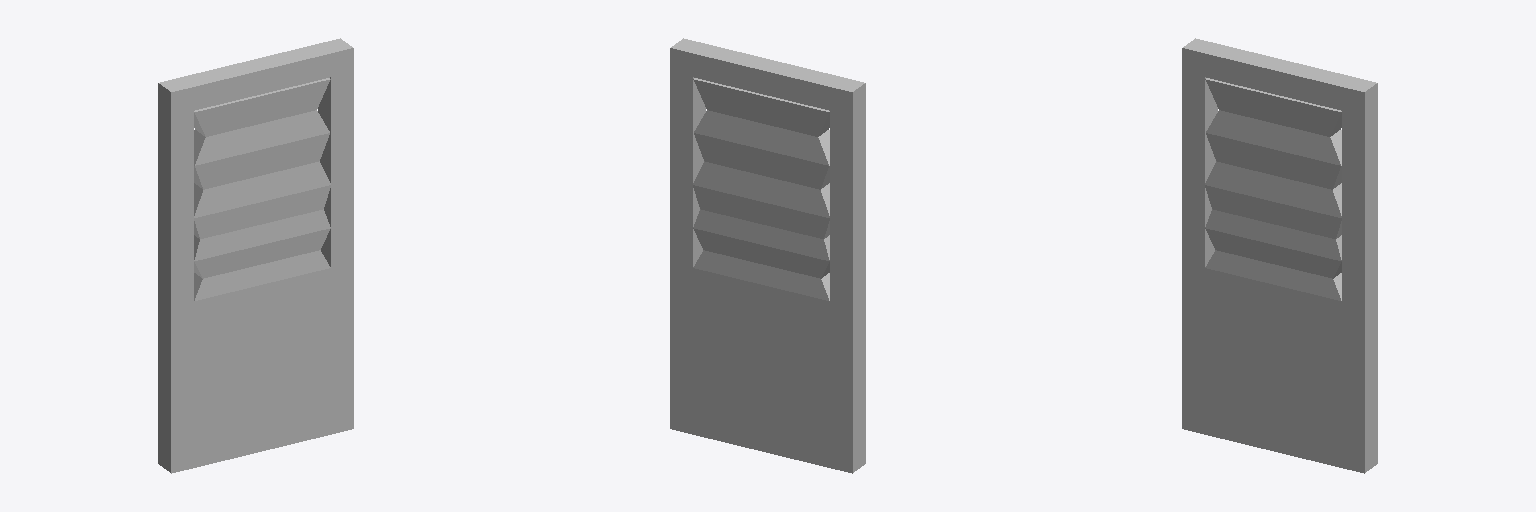
The model's file is porta_a.obj.
The picture shows the model from 3 angles: view 1: azimuth 30°, elevation 25°; view 2: azimuth 150°, elevation 25°; view 3: azimuth 330°, elevation 25°; orthographic projection.
Visible parts, largest first — view 1: Cylinder_Cylinder_door; view 2: Cylinder_Cylinder_door; view 3: Cylinder_Cylinder_door.
Boxes of the visible parts, x1,y1,x2,y2 form: Cylinder_Cylinder_door: [158, 38, 353, 473]; Cylinder_Cylinder_door: [670, 38, 865, 473]; Cylinder_Cylinder_door: [1182, 38, 1377, 473].
Bounding box in the file's own units: 0.9995 × 2 × 0.126.